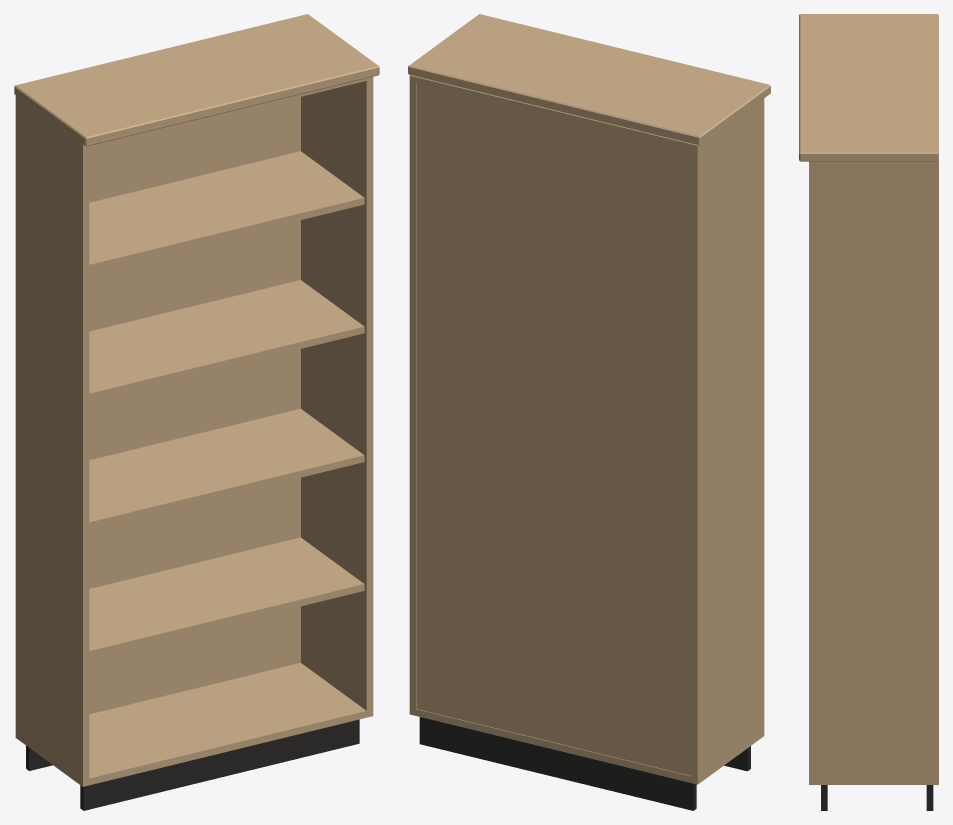
Rendered from 35_regal_80.glb.
3 views of the same model, side by side, from view 1: azimuth 30°, elevation 25°; view 2: azimuth 150°, elevation 25°; view 3: azimuth 270°, elevation 25° (orthographic). The views are drawn at different scales.
Visible parts, largest first — view 1: Korpus, Wierzch, Cokol; view 2: Korpus, Wierzch, Cokol; view 3: Korpus, Wierzch, Cokol.
Boxes of the visible parts, x1,y1,x2,y2 form: Korpus: (15, 77, 373, 786); Wierzch: (14, 14, 379, 146); Cokol: (26, 719, 359, 810); Korpus: (409, 75, 764, 784); Wierzch: (408, 14, 770, 145); Cokol: (419, 717, 750, 810); Korpus: (809, 160, 938, 784); Wierzch: (799, 14, 938, 161); Cokol: (821, 785, 933, 810).
Size of the model in its own units: 0.812 by 1.8 by 0.344.
